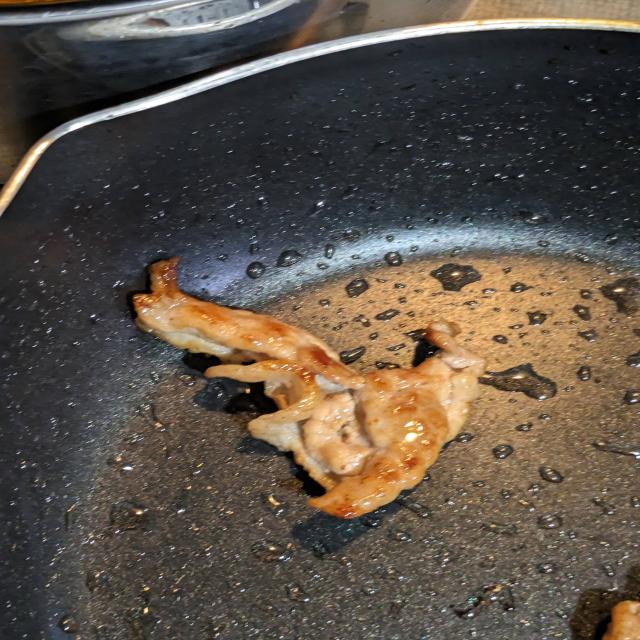OK cooked pork,: (119, 246, 501, 529)
